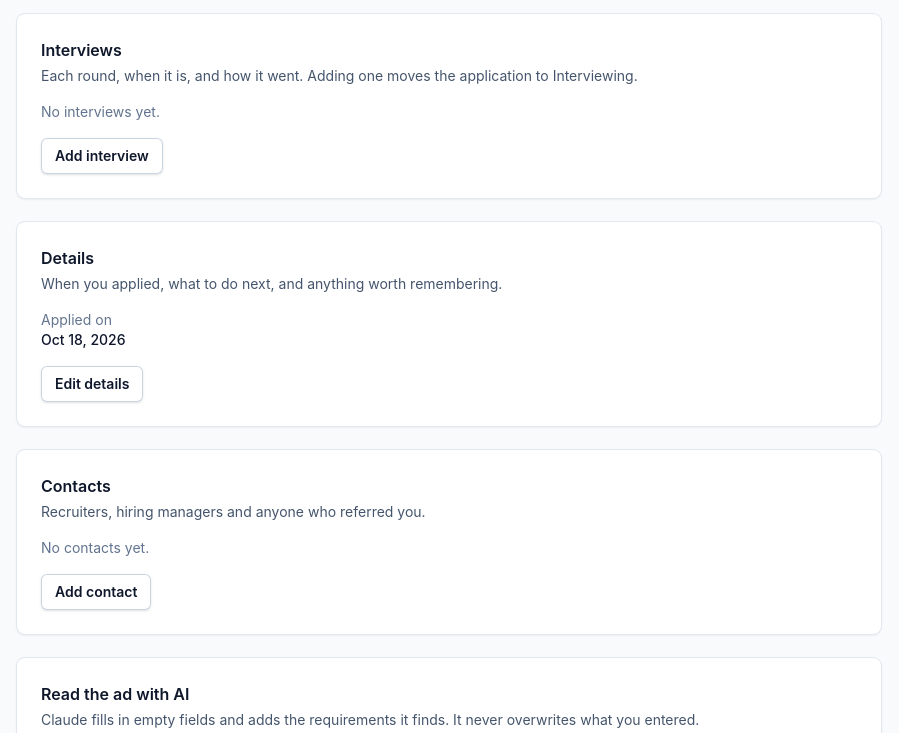
it: Application details › edits dates, next action, notes and links
The image size is (899, 733).
(page scrolled)
Expected: the text "Oct 18, 2026" is shown, [41, 331, 126, 348]
Click the button "Edit details" at (92, 384), box [41, 366, 143, 402]
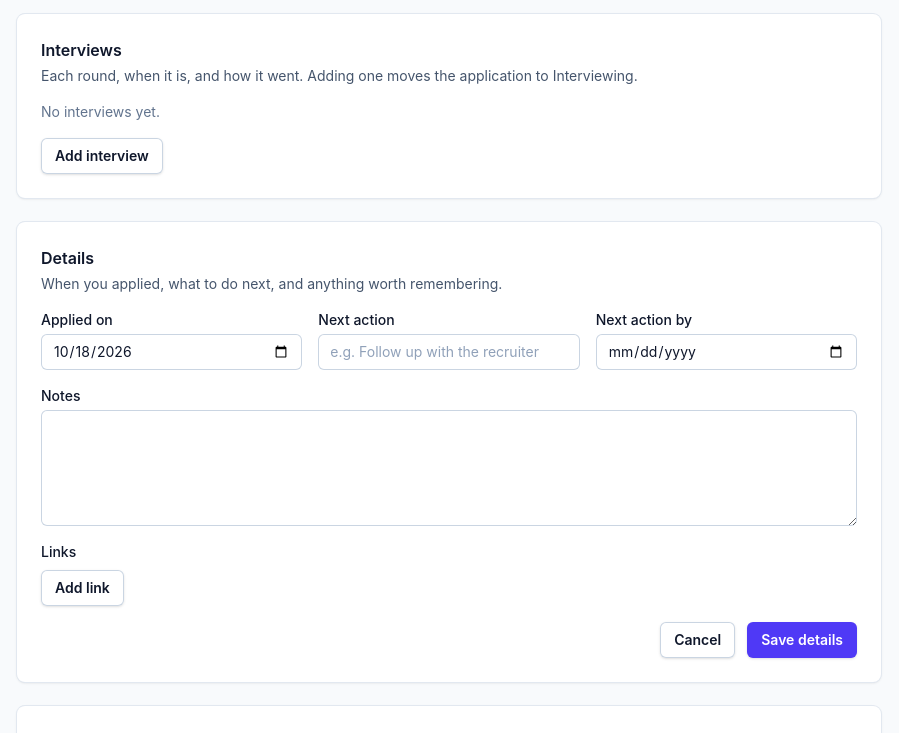
Type "Follow up with Ana" into the field labelled "Next action" at (449, 352), box [318, 334, 580, 370]
Type "2026-10-25" into the date field labelled "Next action by" at (726, 352), box [596, 334, 857, 370]
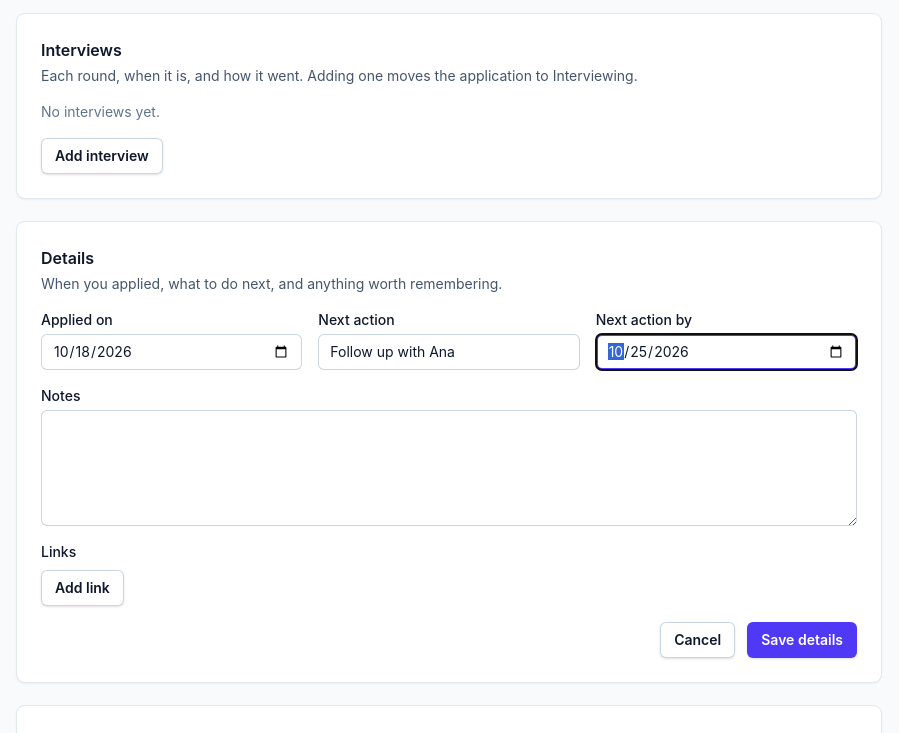
Type "Referred by Ana." into the text box labelled "Notes" at (449, 468), box [41, 410, 857, 526]
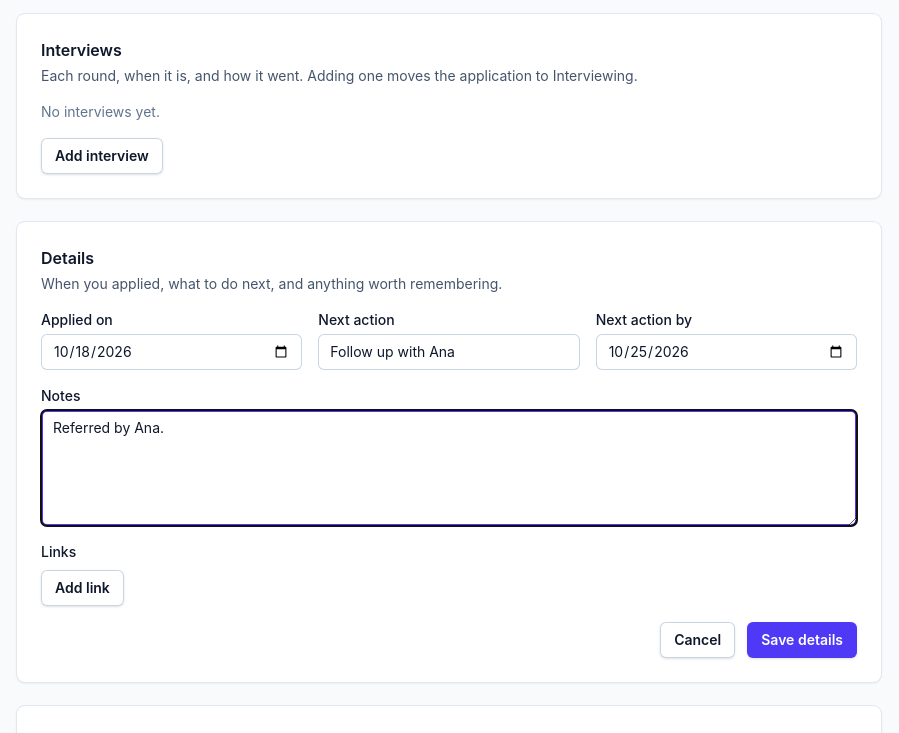
Click the button "Add link" at (82, 588), box [41, 570, 124, 606]
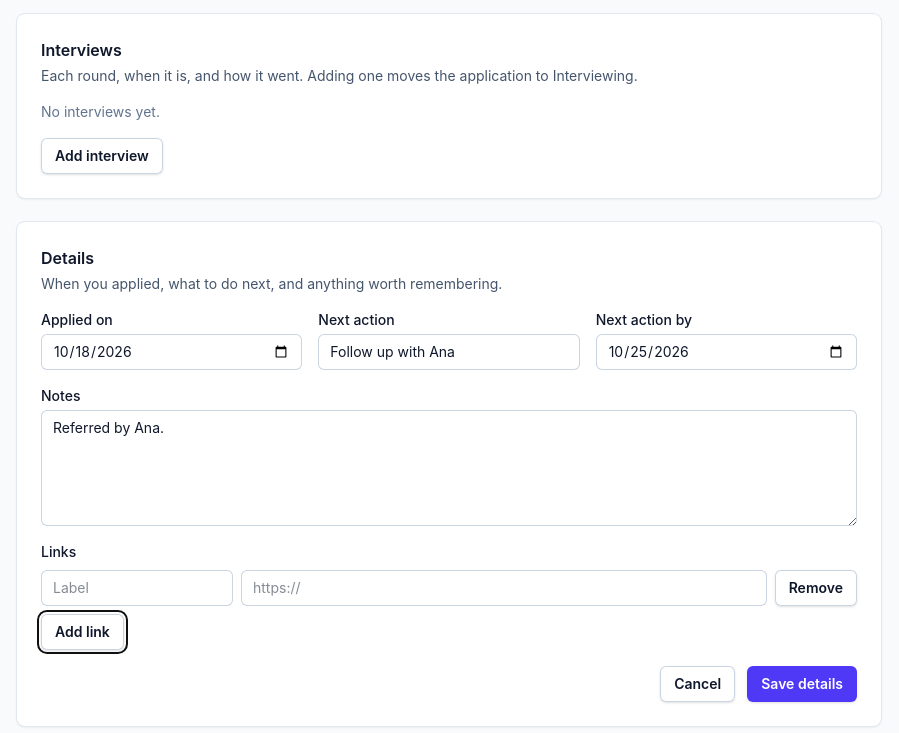
Type "Portal" into the field named "Link 1 label" at (137, 588), box [41, 570, 233, 606]
Type "https://jobs.example.com/status" into the field named "Link 1 URL" at (504, 588), box [241, 570, 767, 606]
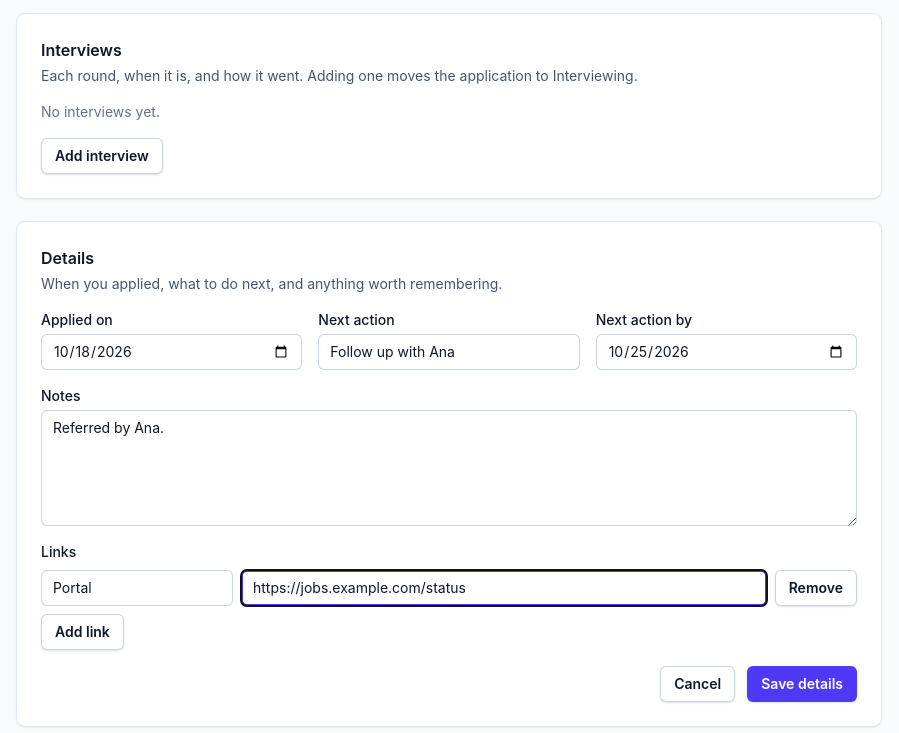
Click the button "Save details" at (802, 684), box [747, 666, 857, 702]
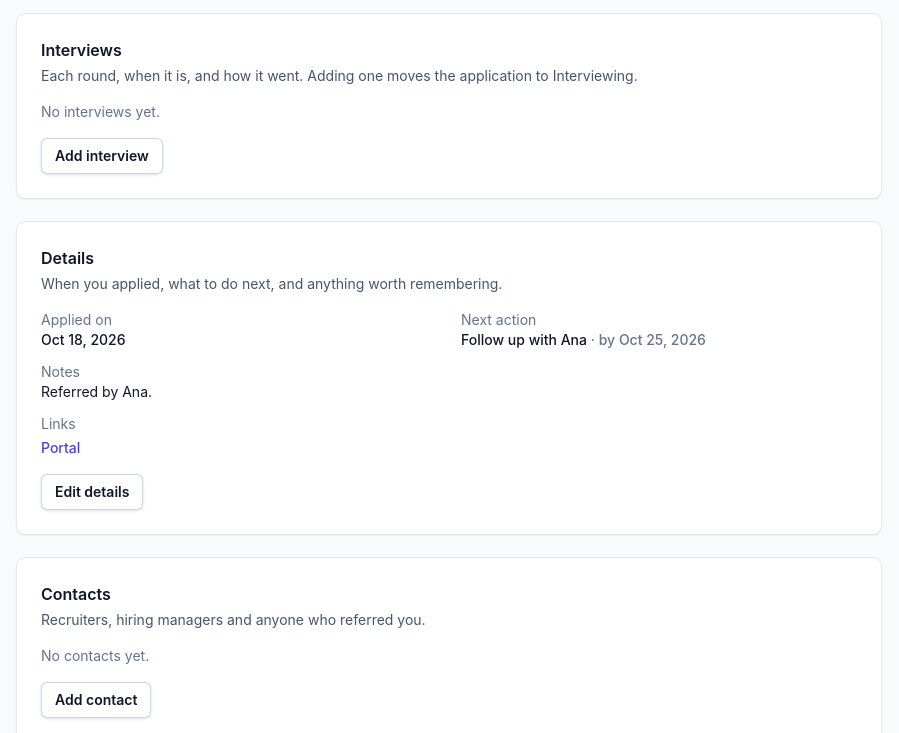
Expected: the text "Follow up with Ana" is shown, [461, 331, 587, 348]
